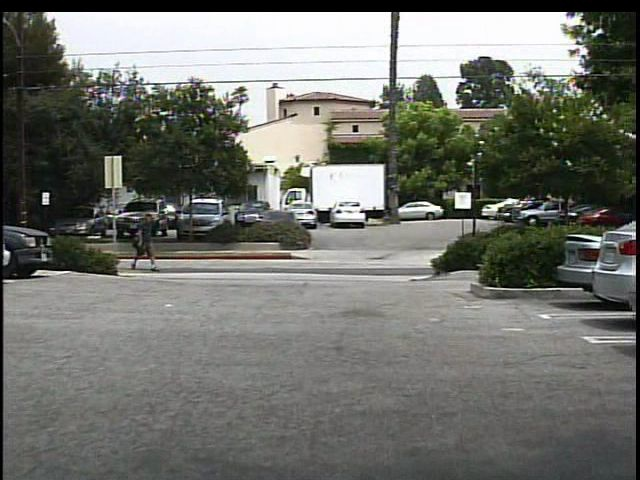person: (132, 210, 164, 275)
